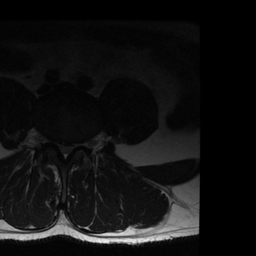CCS_stenosis: (62, 139, 68, 162)
LFS_severe_stenosis: (75, 136, 81, 152)
LLS_stenosis: (68, 139, 74, 156)
RFS_severe_stenosis: (50, 133, 57, 151)
RLS_stenosis: (57, 137, 62, 156)
